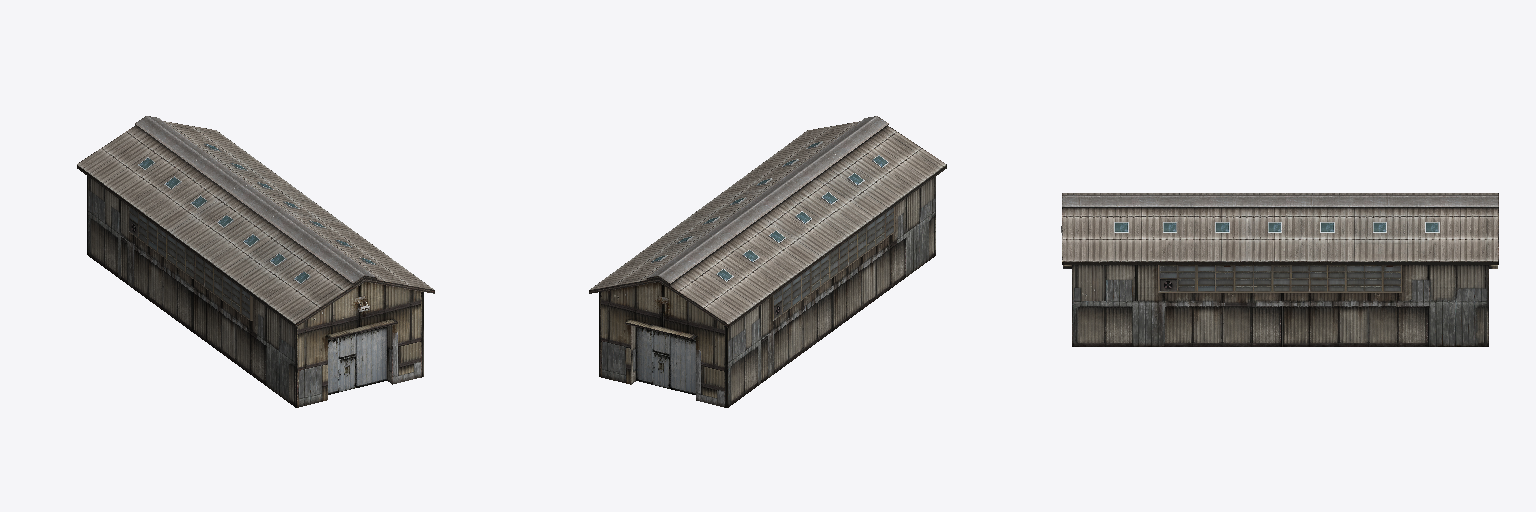
The picture shows the model from 3 angles: view 1: azimuth 30°, elevation 25°; view 2: azimuth 150°, elevation 25°; view 3: azimuth 270°, elevation 25°; orthographic projection.
Visible parts, largest first — view 1: default; view 2: default; view 3: default.
Part boxes in pixels (x1,y1,x2,y2): default: (77,116,434,407); default: (589,116,946,407); default: (1061,193,1498,346).
Bounding box in the file's own units: 22.32 × 18.35 × 60.5.
1 materials, 1 textured.